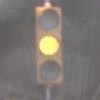Yellow: (30, 4, 70, 94)
